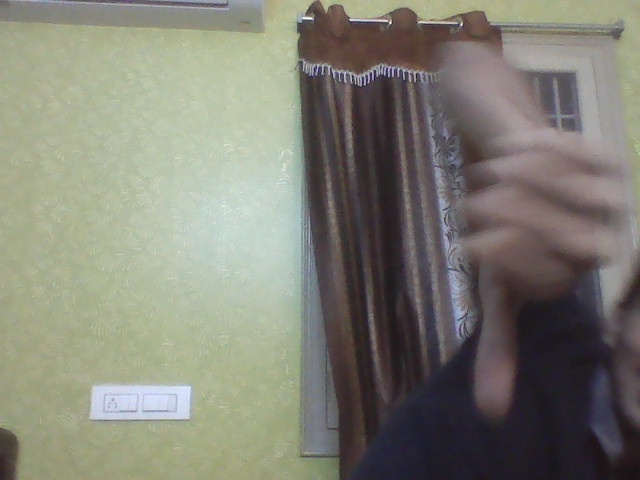thumbsdown: (457, 125, 628, 425)
